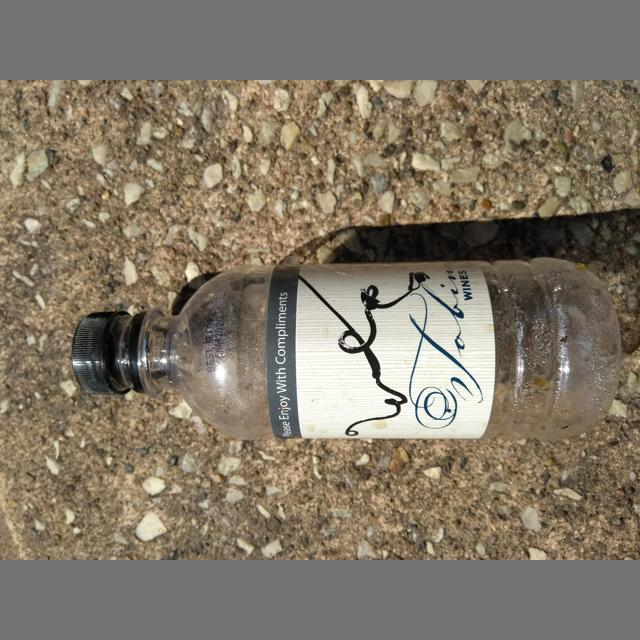litter: (72, 257, 621, 440), (72, 311, 131, 395)
